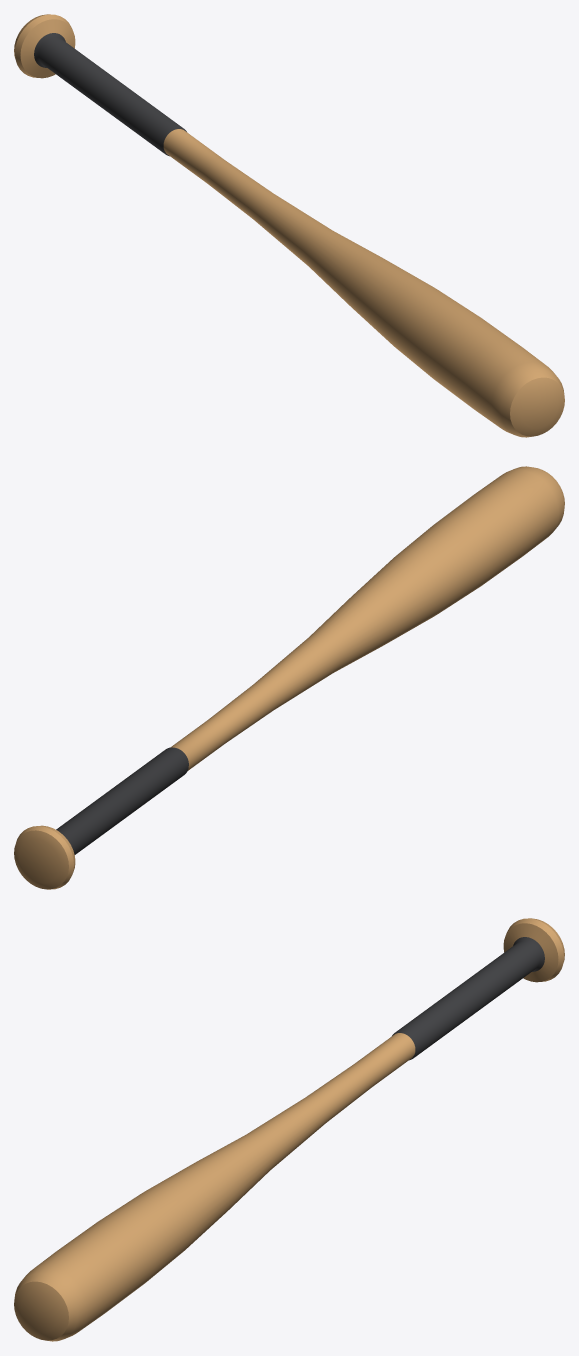
The model's file is BaseballBat.fbx.
3 views of the same model, one above another, from view 1: azimuth 30°, elevation 25°; view 2: azimuth 150°, elevation 25°; view 3: azimuth 330°, elevation 25° (orthographic).
Parts seen in each view (by area): view 1: BaseballBat_Mesh; view 2: BaseballBat_Mesh; view 3: BaseballBat_Mesh.
Boxes of the visible parts, x1,y1,x2,y2 form: BaseballBat_Mesh: (14,14,564,437); BaseballBat_Mesh: (14,466,564,889); BaseballBat_Mesh: (14,918,564,1341).
Bounding box in the file's own units: 0.067 × 0.067 × 0.851.
